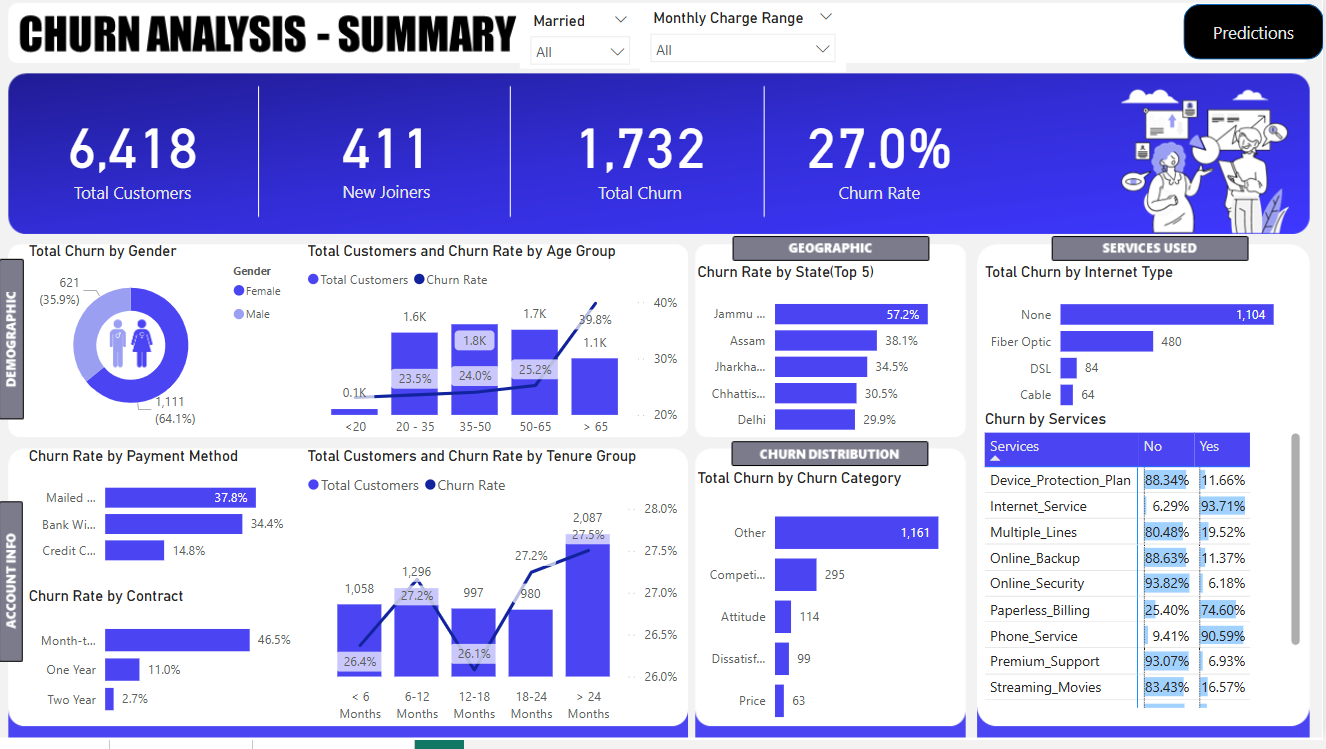

The page's visual inventory and layout, read from the dashboard file:
{"tool":"powerbi","page":{"name":"Churn Summary","canvas":[1280,720],"ordinal":0},"visuals":[{"type":"image","box":[94.7,301.9,72.7,70],"z":0},{"type":"card","fields":{"Values":["Measure_Table.Total Customers"]},"box":[9.6,75.5,244.3,153.7],"z":1000},{"type":"card","fields":{"Values":["Measure_Table.New Joiners"]},"box":[253.9,75.5,247,153.7],"z":2000},{"type":"card","fields":{"Values":["Measure_Table.Total Churn"]},"box":[500.9,75.5,241.5,153.7],"z":3000},{"type":"card","fields":{"Values":["Measure_Table.Churn Rate"]},"box":[742.4,75.5,220.9,153.7],"z":4000},{"type":"donutChart","fields":{"Category":["prod_table.Gender"],"Y":["Measure_Table.Total Churn"]},"box":[26.1,238.8,263.5,183.9],"z":5000},{"type":"lineStackedColumnComboChart","fields":{"Category":["mapping_AgeGrp.Age Group"],"Y":["Measure_Table.Total Customers"],"Y2":["Measure_Table.Churn Rate"]},"box":[295,238.8,367.8,197.6],"z":6000},{"type":"clusteredBarChart","title":"Churn Rate by Payment Method","fields":{"Category":["prod_table.Payment_Method"],"Y":["Measure_Table.Churn Rate"]},"box":[26.1,436.4,263.5,126.2],"z":7000},{"type":"clusteredBarChart","fields":{"Category":["prod_table.Contract"],"Y":["Measure_Table.Churn Rate"]},"box":[26.1,572.2,263.5,137.2],"z":8000},{"type":"lineStackedColumnComboChart","title":"Total Customers and Churn Rate by Tenure Group","fields":{"Y":["Measure_Table.Total Customers"],"Y2":["Measure_Table.Churn Rate"],"Category":["mapping_TenureGrp.Tenure_Group"]},"box":[295,436.4,367.8,273.1],"z":9000},{"type":"barChart","title":"Churn Rate by State(Top 5)","fields":{"Category":["prod_table.State"],"Y":["Measure_Table.Churn Rate"]},"box":[672.4,259.3,266.2,177],"z":10000},{"type":"barChart","title":"Total Churn by Churn Category","fields":{"Category":["prod_table.Churn_Category"],"Y":["Measure_Table.Total Churn"]},"box":[672,458.4,266.6,261.8],"z":11000},{"type":"clusteredBarChart","title":"Total Churn by Internet Type","fields":{"Category":["prod_table.Internet_Type"],"Y":["Measure_Table.Total Churn"]},"box":[949.6,259.3,314.2,153.7],"z":12000},{"type":"pivotTable","title":"Churn by Services","fields":{"Rows":["prod_Services.Services"],"Columns":["prod_Services.Status"],"Values":["Sum(prod_Services.Churn_Status)"]},"box":[949.6,402.1,314.2,292.3],"z":13000},{"type":"slicer","fields":{"Values":["prod_table.Monthly_Charge_Status"]},"box":[621.6,9.6,199,65.9],"z":14000},{"type":"slicer","fields":{"Values":["prod_table.Married"]},"box":[505,12.3,116.6,60.4],"z":15000},{"type":"shape","box":[1145.8,9.6,135,53.5],"z":16000}]}

Visuals, with their boxes in screenshot pixels (x1, y1, x2, y2), scaled from the page's 1280x720 canvas onto the 1326x749 screenshot:
image: detection(98, 314, 173, 387)
card - Measure_Table.Total Customers: detection(10, 79, 263, 238)
card - Measure_Table.New Joiners: detection(263, 79, 519, 238)
card - Measure_Table.Total Churn: detection(519, 79, 769, 238)
card - Measure_Table.Churn Rate: detection(769, 79, 998, 238)
donutChart - prod_table.Gender x Measure_Table.Total Churn: detection(27, 248, 300, 440)
lineStackedColumnComboChart - mapping_AgeGrp.Age Group x Measure_Table.Total Customers: detection(306, 248, 687, 454)
"Churn Rate by Payment Method" clusteredBarChart: detection(27, 454, 300, 585)
clusteredBarChart - prod_table.Contract x Measure_Table.Churn Rate: detection(27, 595, 300, 738)
"Total Customers and Churn Rate by Tenure Group" lineStackedColumnComboChart: detection(306, 454, 687, 738)
"Churn Rate by State(Top 5)" barChart: detection(697, 270, 972, 454)
"Total Churn by Churn Category" barChart: detection(696, 477, 972, 748)
"Total Churn by Internet Type" clusteredBarChart: detection(984, 270, 1309, 430)
"Churn by Services" pivotTable: detection(984, 418, 1309, 722)
slicer - prod_table.Monthly_Charge_Status: detection(644, 10, 850, 79)
slicer - prod_table.Married: detection(523, 13, 644, 76)
shape: detection(1187, 10, 1325, 66)
